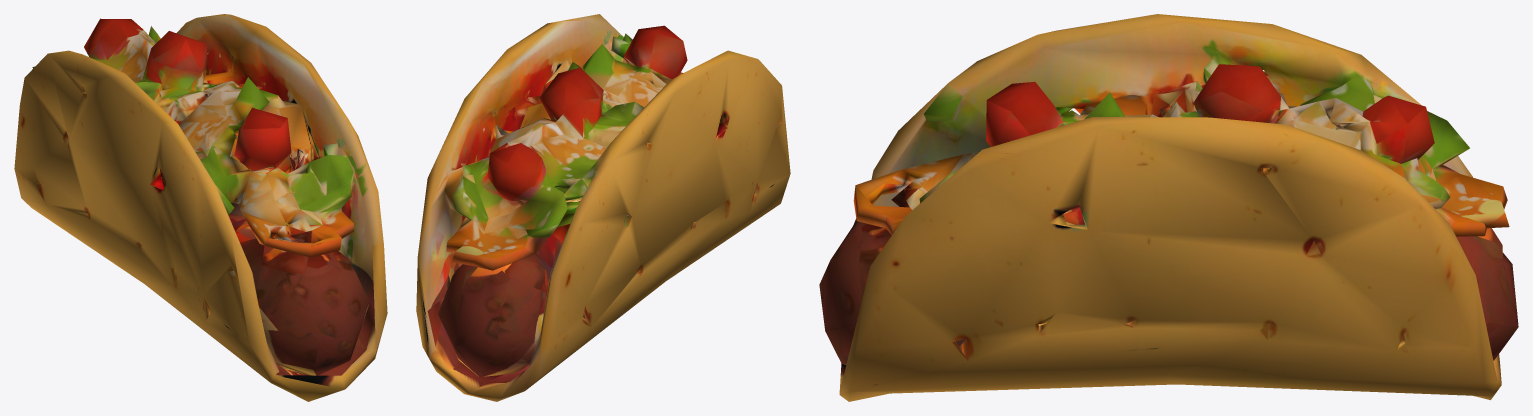
Rendered from Taco.obj.
3 renders of one model, left to right at view 1: azimuth 30°, elevation 25°; view 2: azimuth 150°, elevation 25°; view 3: azimuth 270°, elevation 25°, orthographic. The views are drawn at different scales.
Parts seen in each view (by area): view 1: Taco; view 2: Taco; view 3: Taco.
Part boxes in pixels (box(x1,y1,x2,y2)): Taco: box(14, 14, 387, 401); Taco: box(416, 14, 790, 401); Taco: box(819, 14, 1518, 401).
Bounding box in the file's own units: 0.7097 × 1.03 × 1.98.
